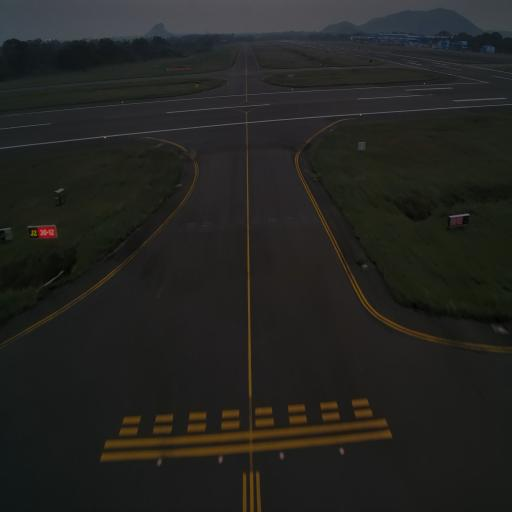on: (154, 452, 164, 474), (277, 447, 287, 466), (336, 440, 344, 460), (218, 451, 226, 467)
